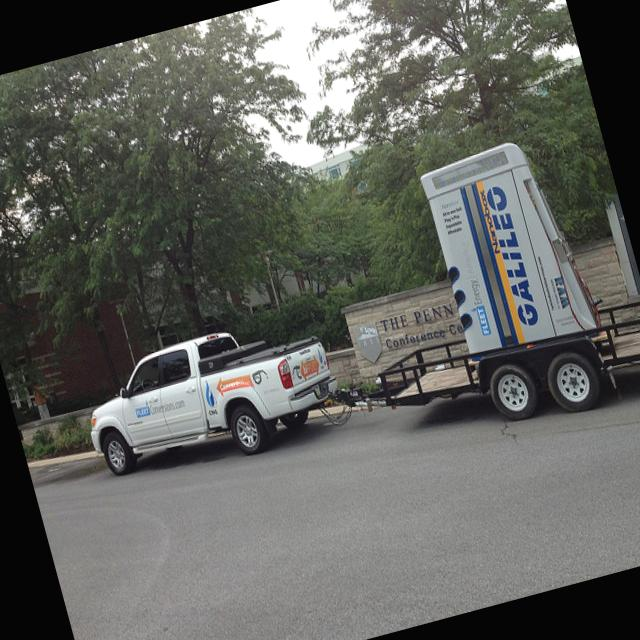Vehicle: (372, 289, 640, 462), (76, 304, 341, 468)
